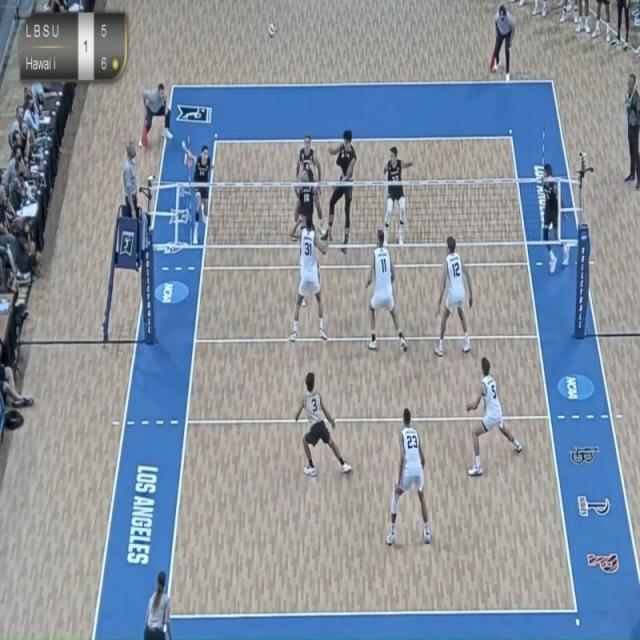volleyball: (266, 18, 280, 41)
